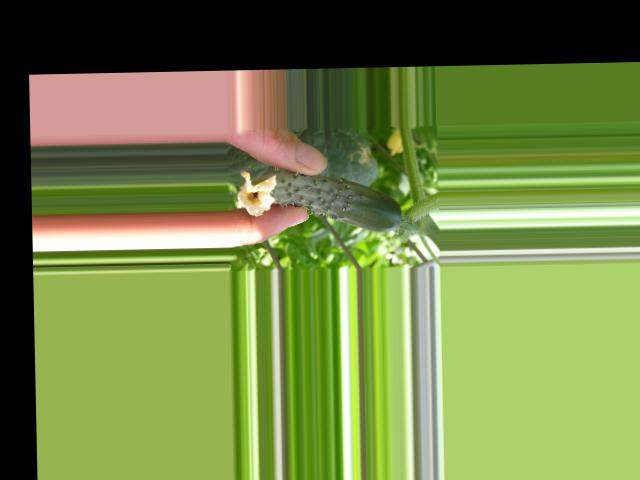cucumber: (236, 167, 402, 234)
